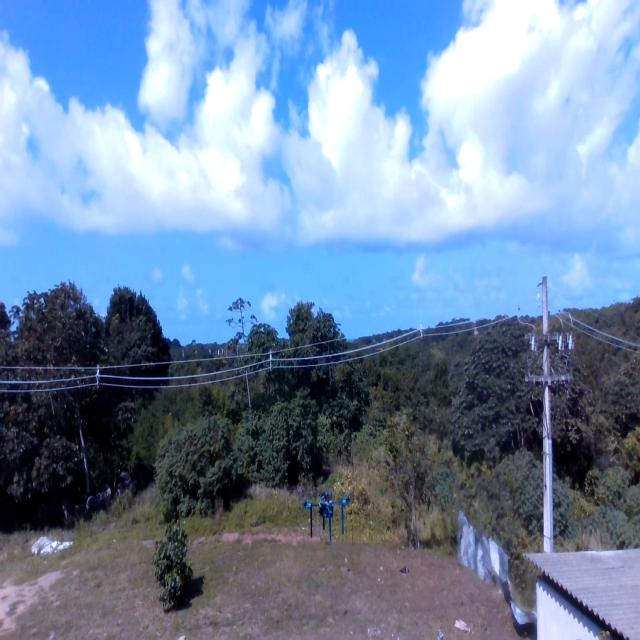-uav-: (302, 484, 351, 550)
